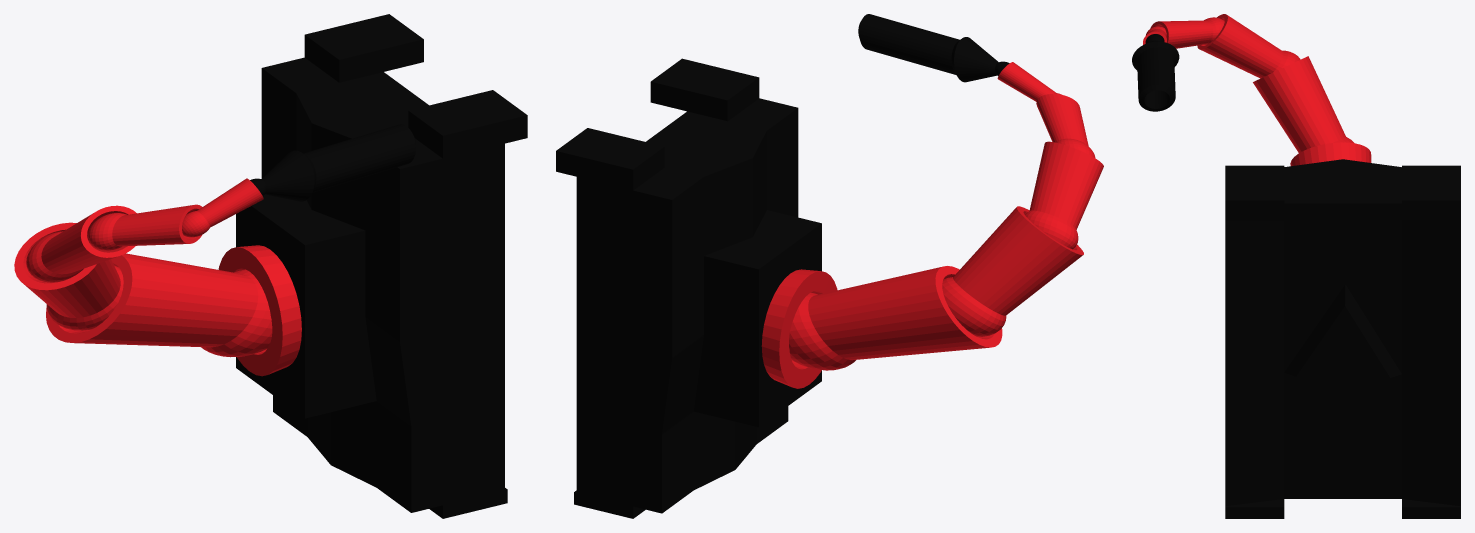
The model's file is LaseerPack.fbx.
3 views of the same model, side by side, from view 1: azimuth 30°, elevation 25°; view 2: azimuth 150°, elevation 25°; view 3: azimuth 270°, elevation 25° (orthographic). The views are drawn at different scales.
Visible parts, largest first — view 1: Cube, Sphere, Sphere.005, Sphere.001, arm attacher, Sphere.002, Sphere.003, Sphere.004; view 2: Cube, Sphere, Sphere.001, Sphere.002, Sphere.005, arm attacher, Sphere.003, Sphere.004; view 3: Cube, Sphere.001, Sphere.002, Sphere.005, Sphere.003, Sphere.
Boxes of the visible parts, x1=… form: Cube: x1=236, y1=14, x2=527, y2=518; Sphere: x1=46, y1=253, x2=272, y2=357; Sphere.005: x1=250, y1=124, x2=415, y2=201; Sphere.001: x1=14, y1=222, x2=123, y2=330; arm attacher: x1=218, y1=245, x2=301, y2=376; Sphere.002: x1=26, y1=205, x2=136, y2=282; Sphere.003: x1=88, y1=204, x2=202, y2=250; Sphere.004: x1=182, y1=178, x2=263, y2=237; Cube: x1=556, y1=58, x2=821, y2=518; Sphere: x1=789, y1=266, x2=1002, y2=370; Sphere.001: x1=942, y1=206, x2=1083, y2=336; Sphere.002: x1=1025, y1=141, x2=1103, y2=249; Sphere.005: x1=858, y1=14, x2=1009, y2=82; arm attacher: x1=761, y1=269, x2=837, y2=388; Sphere.003: x1=1036, y1=94, x2=1095, y2=157; Sphere.004: x1=997, y1=62, x2=1061, y2=101; Cube: x1=1225, y1=159, x2=1460, y2=518; Sphere.001: x1=1253, y1=56, x2=1354, y2=152; Sphere.002: x1=1197, y1=14, x2=1300, y2=78; Sphere.005: x1=1132, y1=34, x2=1179, y2=111; Sphere.003: x1=1150, y1=17, x2=1224, y2=48; Sphere: x1=1290, y1=142, x2=1371, y2=166.
Bounding box in the file's own units: 396 × 352 × 279.
